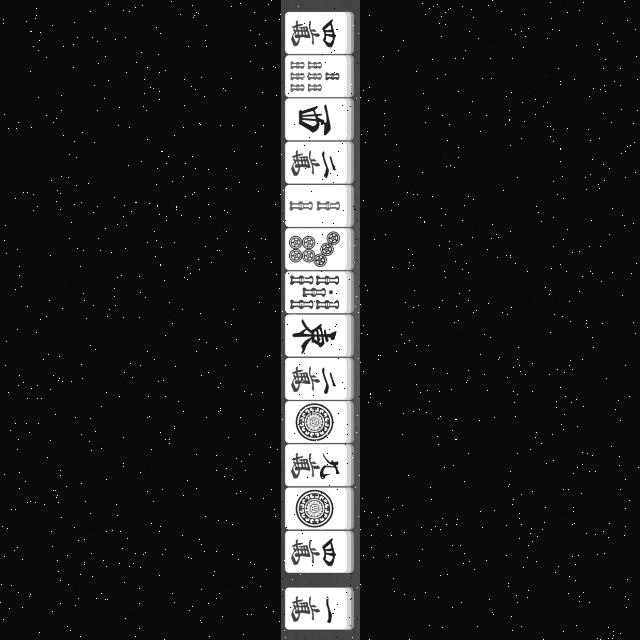1m: (286, 588, 346, 630)
1p: (286, 489, 346, 531), (286, 402, 346, 443)
2m: (286, 143, 346, 183), (285, 360, 345, 400)
2s: (286, 187, 346, 226)
4m: (286, 14, 346, 54), (288, 534, 344, 570)
5s: (287, 272, 345, 314)
7p: (286, 230, 344, 270)
7s: (286, 56, 346, 95)
9m: (286, 446, 346, 486)
sha: (286, 100, 344, 140)
tou: (288, 316, 344, 356)
